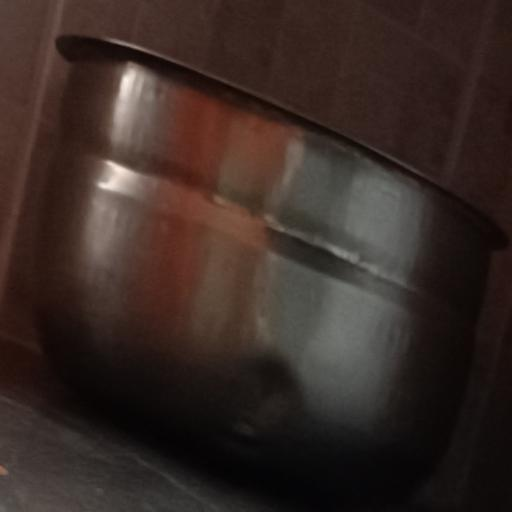vessel: (32, 36, 506, 499)
